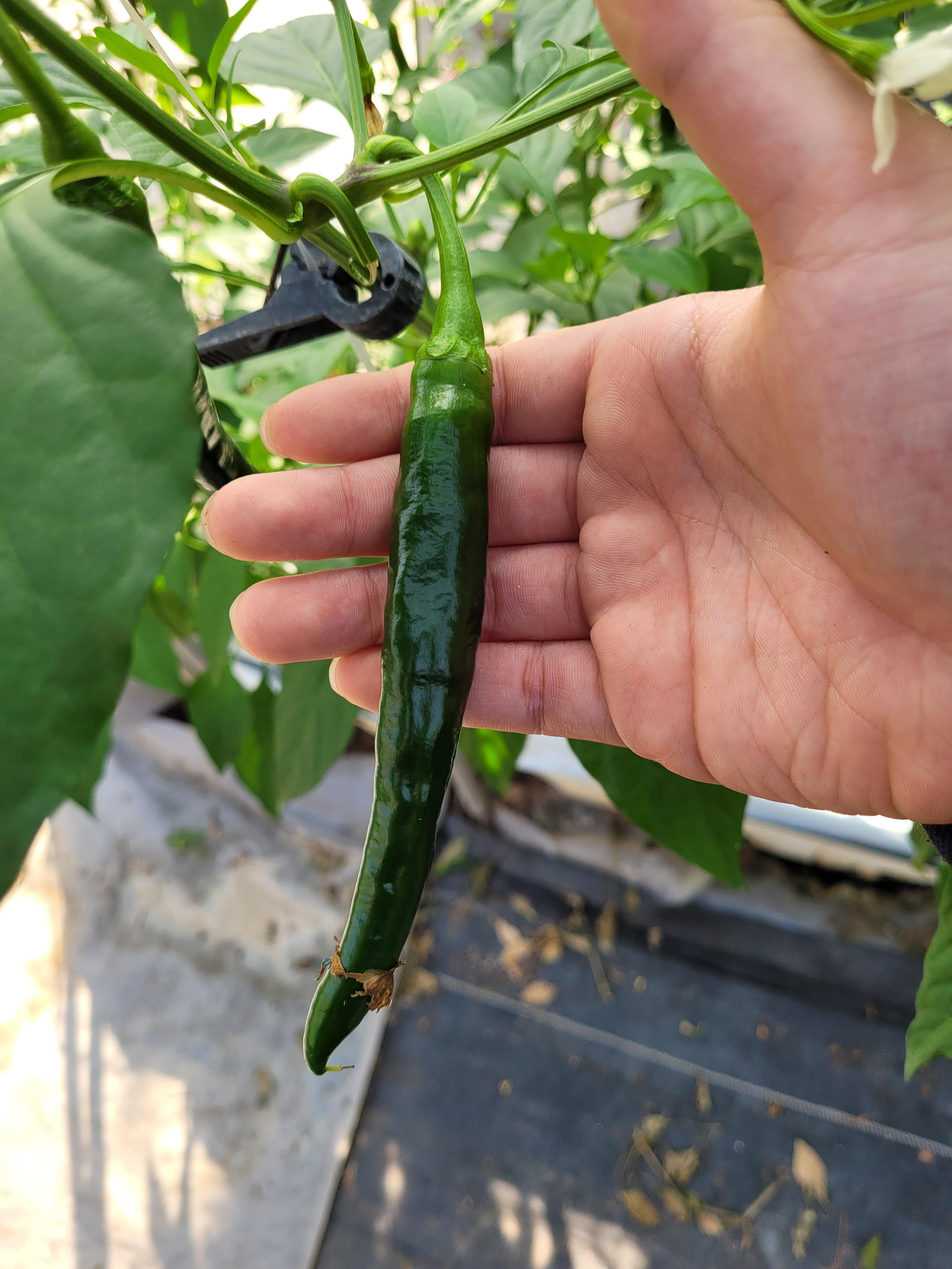Buah Cabai Sehat: (299, 317, 497, 1075)
